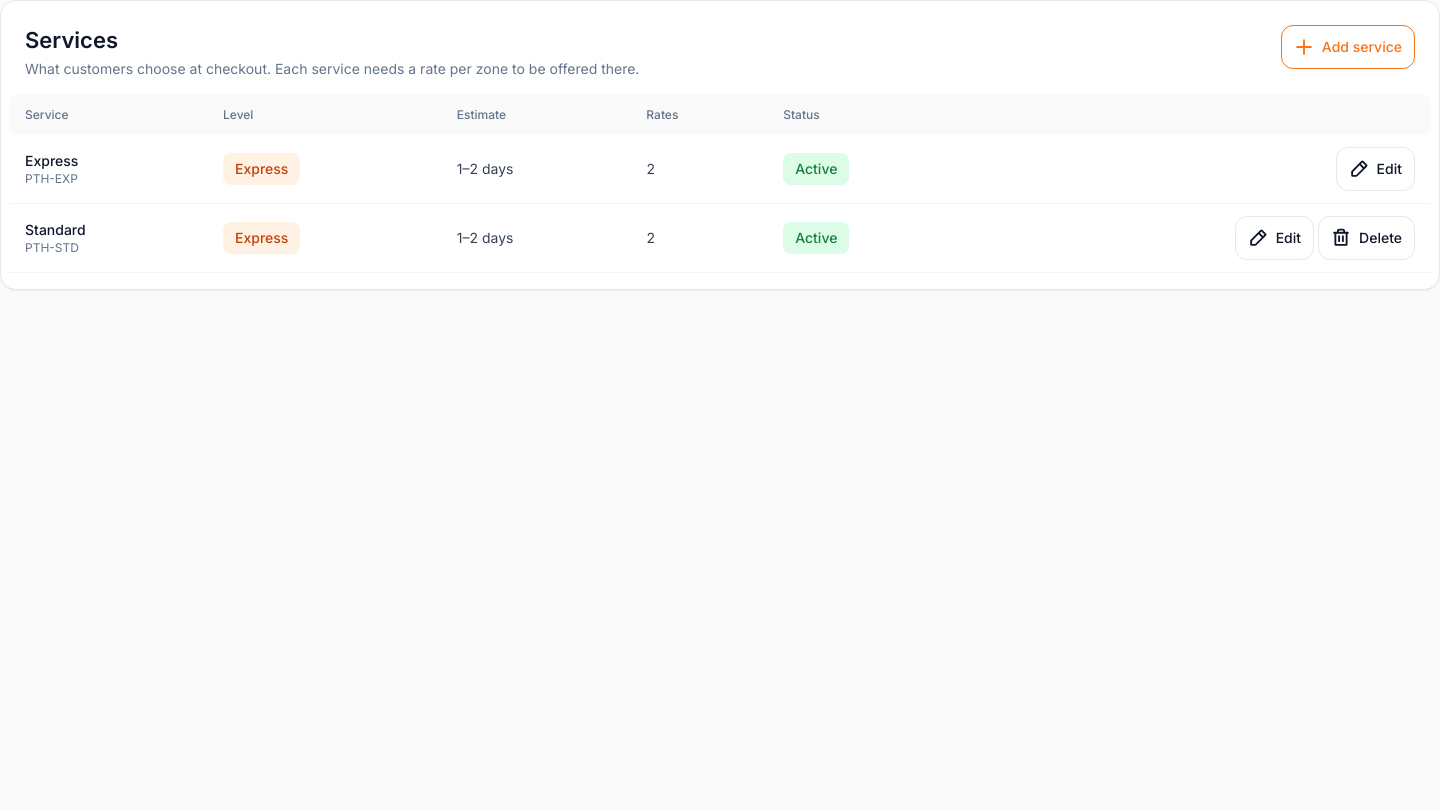
CourierServices › offers delete only for unused services and opens an empty form for a new one
Expected: the button "Delete" is shown, [1318,216,1415,260]
Click the button "Edit" in the row of "PTH-EXP" at (1375, 169), box [1336,147,1415,191]
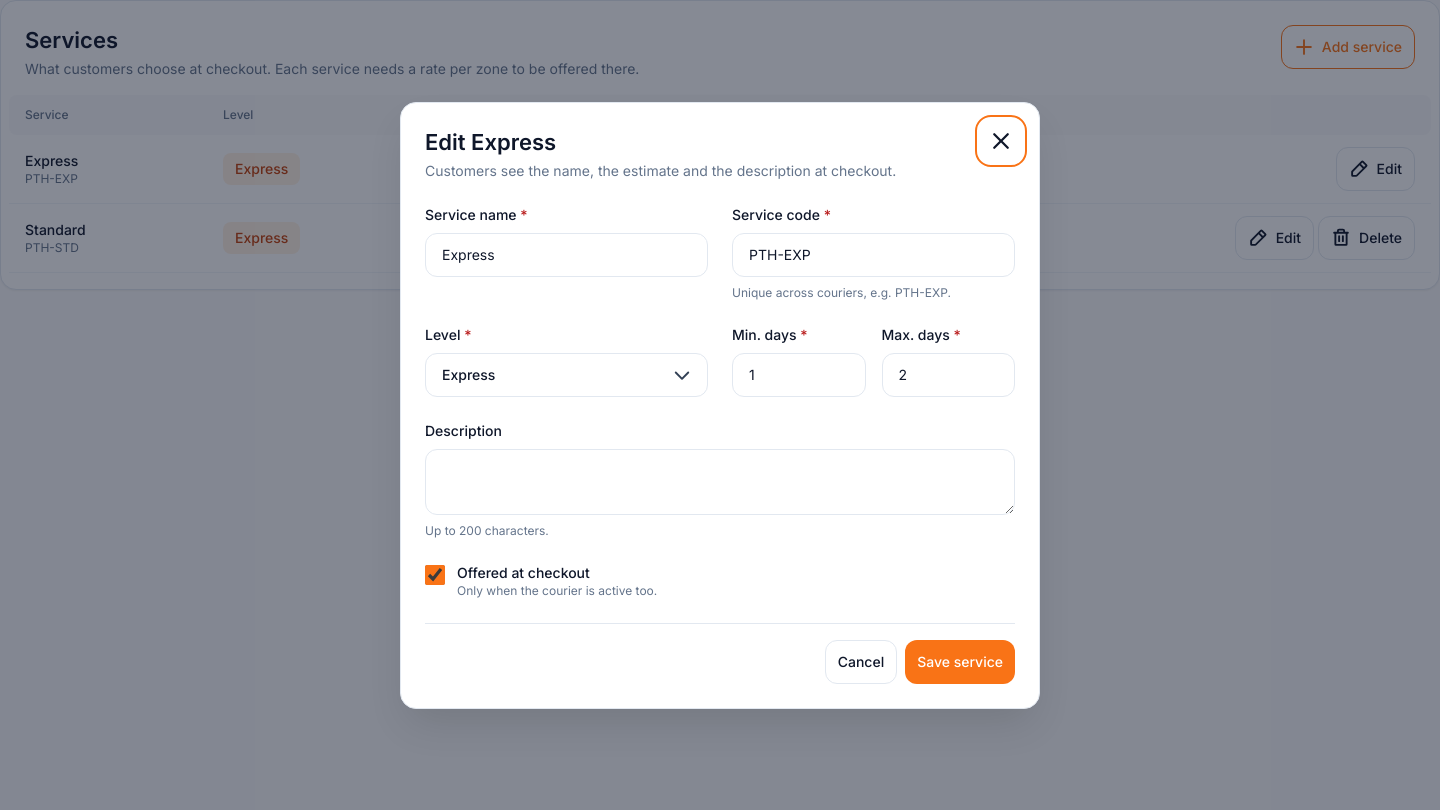
Expected: the field labelled "Service name *" holds "Express", [425,232,708,276]
Click the button "Cancel" at (861, 662), box [825,640,897,684]
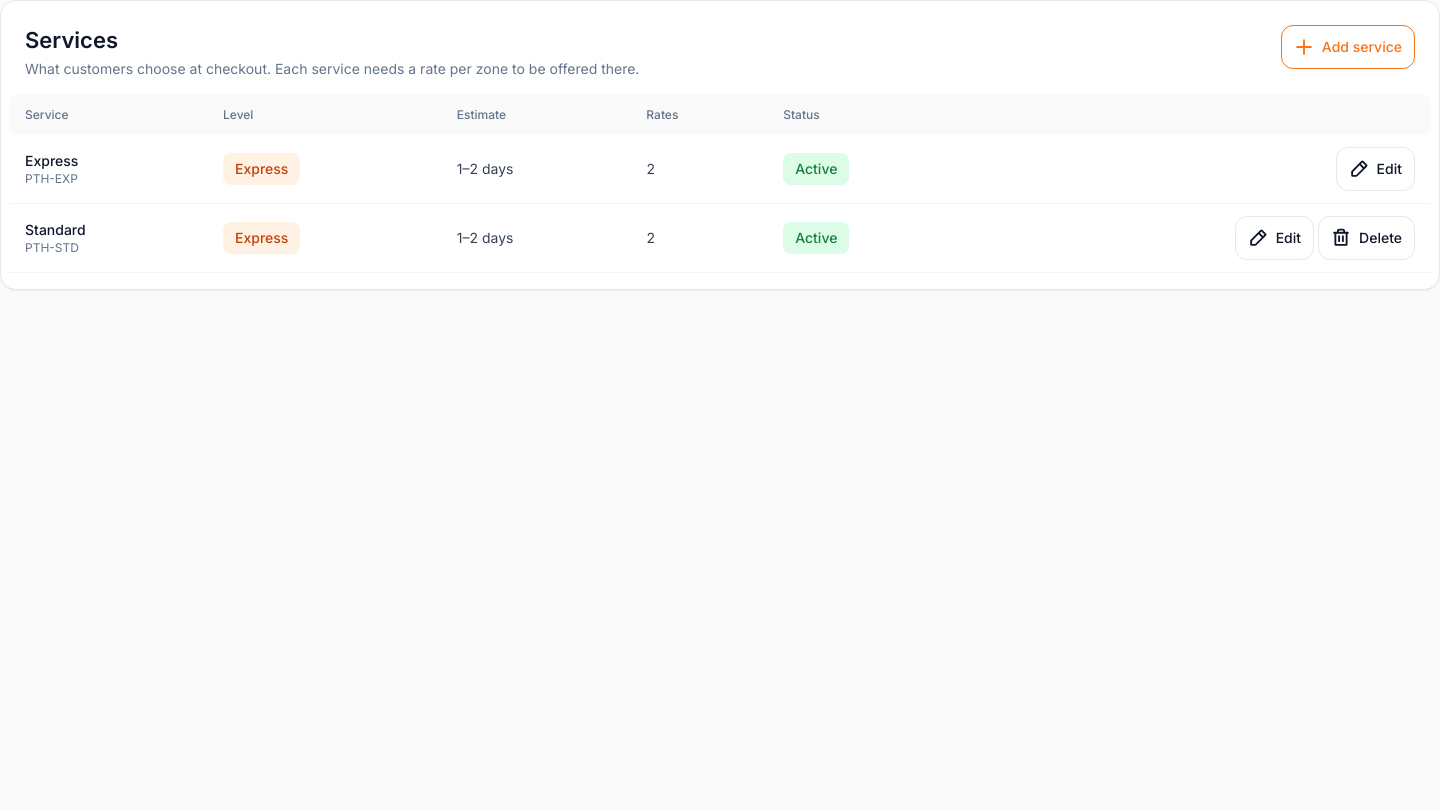
Click the button "Add service" at (1348, 47), box [1281,25,1415,69]
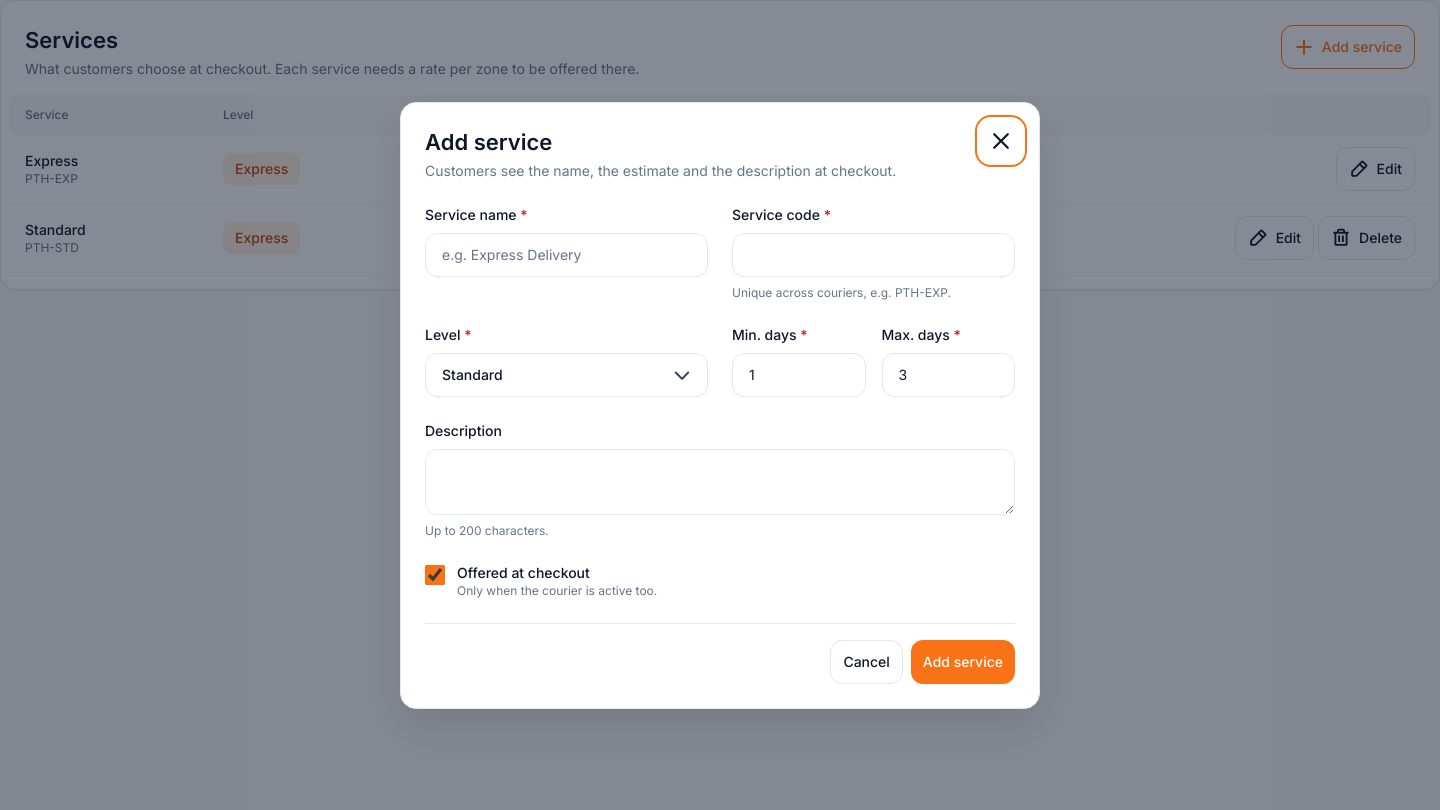
Expected: the field labelled "Service name *" is empty
Type "Standard" into the field labelled "Service name *" at (566, 254), box [425,232,708,276]
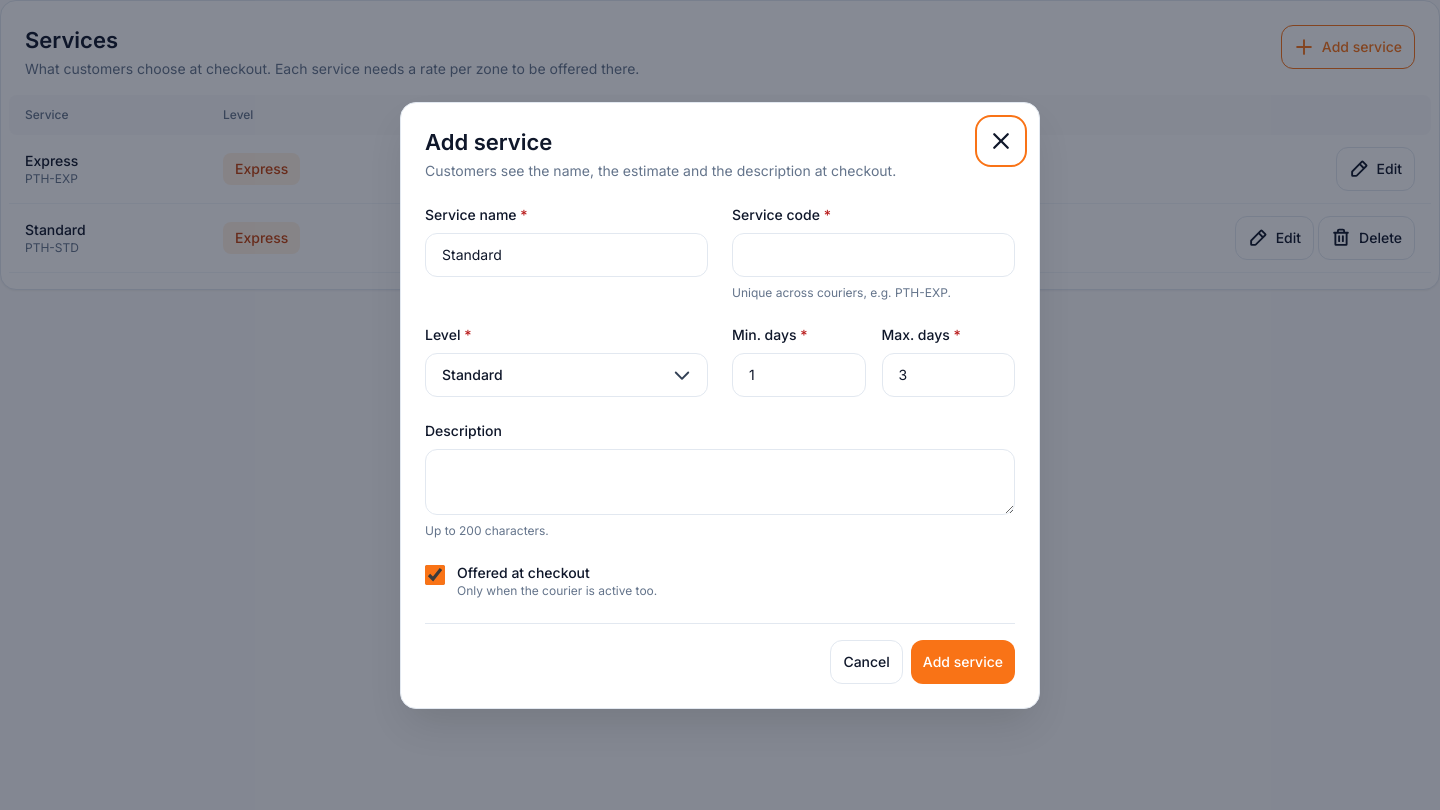
Type "pth std" into the field labelled "Service code *" at (874, 254), box [732,232,1015,276]
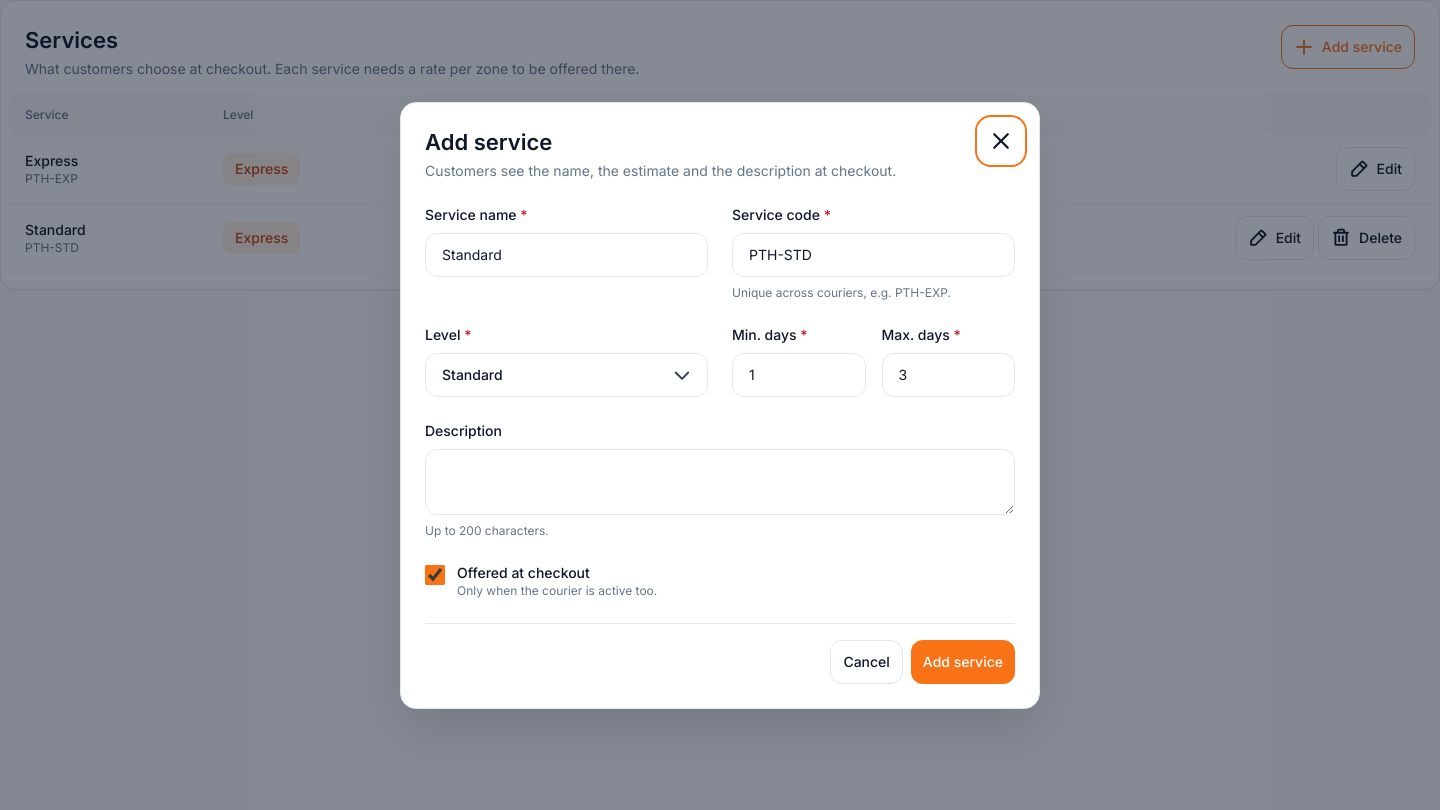
Click the button "Add service" at (963, 662), box [911,640,1015,684]
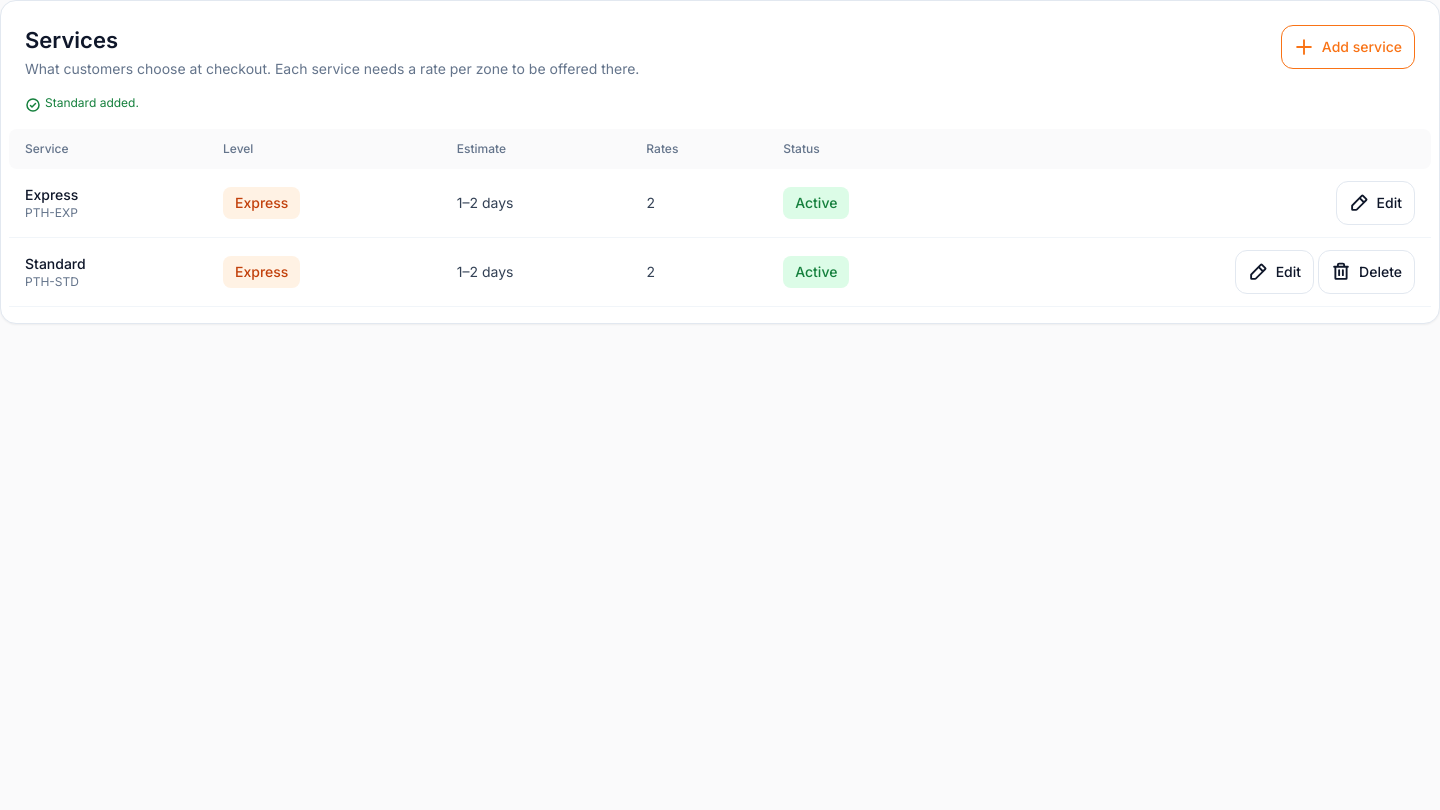
Expected: the dialog is gone
Expected: the text "Standard added." is shown, [25,95,139,113]
